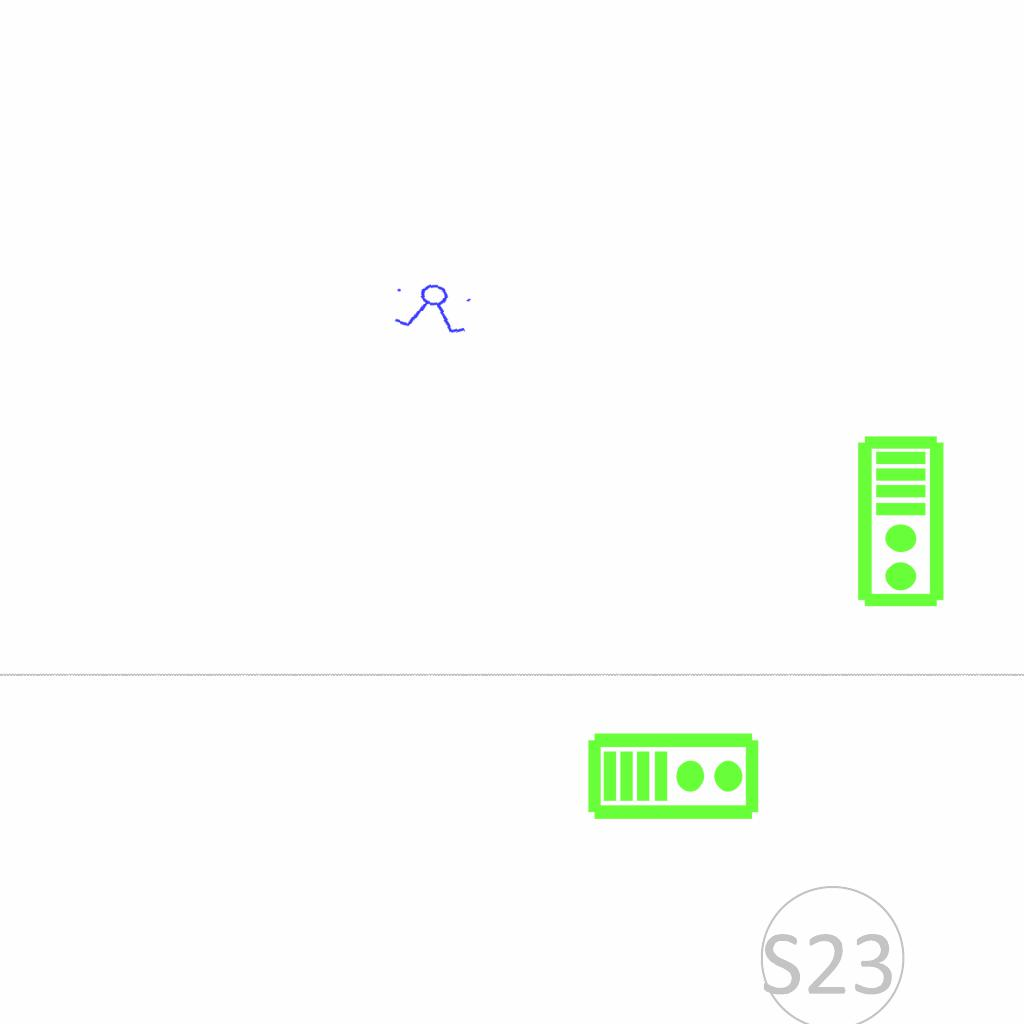Gegensprechanlage_mit_Video: (586, 727, 762, 822), (855, 434, 950, 610)
Serienschalter: (388, 278, 478, 338)
